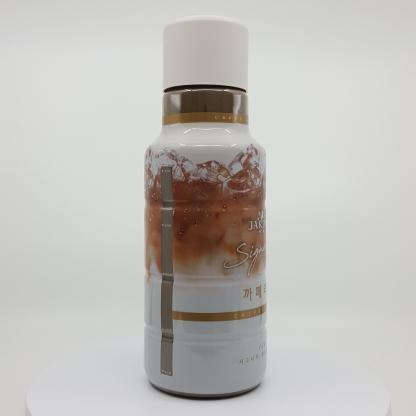----------1-1L: (145, 15, 267, 398)
